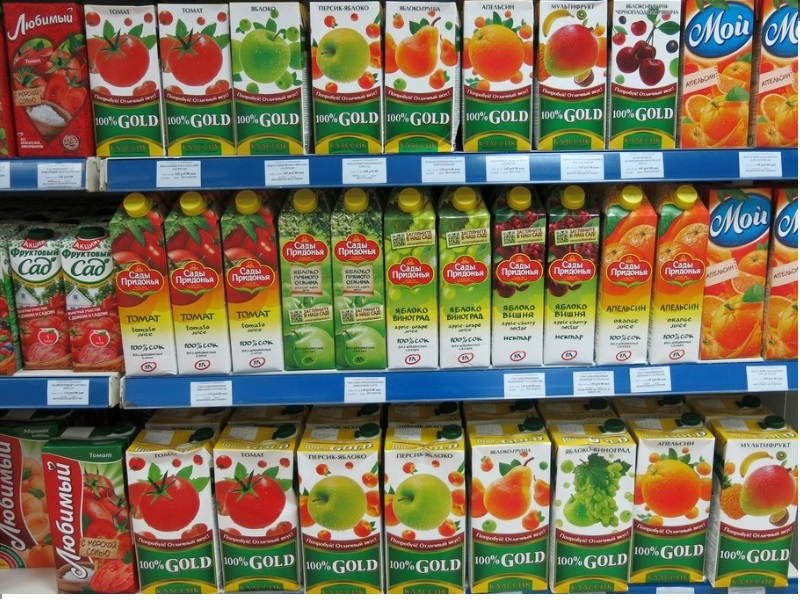juice: (34, 417, 151, 600), (454, 416, 564, 593), (206, 421, 312, 593), (373, 419, 477, 593), (701, 416, 800, 592), (126, 424, 227, 592), (623, 414, 719, 589), (1, 1, 104, 163), (546, 417, 639, 593), (298, 421, 391, 593), (102, 193, 187, 381), (80, 1, 174, 164), (226, 1, 320, 163), (699, 181, 778, 370), (161, 190, 239, 380), (153, 1, 245, 161), (380, 1, 473, 159), (453, 1, 543, 161), (219, 189, 294, 377), (427, 185, 499, 374), (305, 1, 391, 159), (381, 187, 451, 374), (276, 189, 342, 380), (326, 189, 392, 377), (604, 1, 682, 155), (535, 1, 614, 153), (679, 1, 756, 155), (595, 182, 656, 372), (490, 185, 551, 372), (540, 184, 601, 369), (656, 182, 704, 367)
